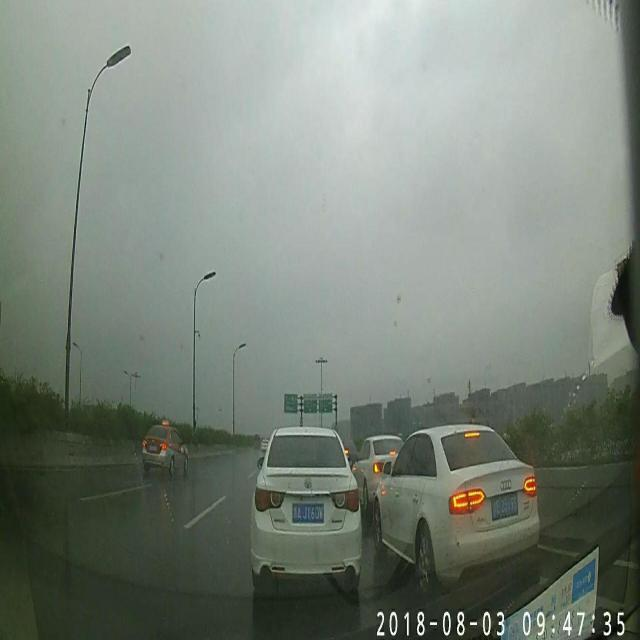car: (373, 420, 538, 590), (251, 425, 362, 591), (350, 436, 406, 504), (140, 421, 188, 478)
